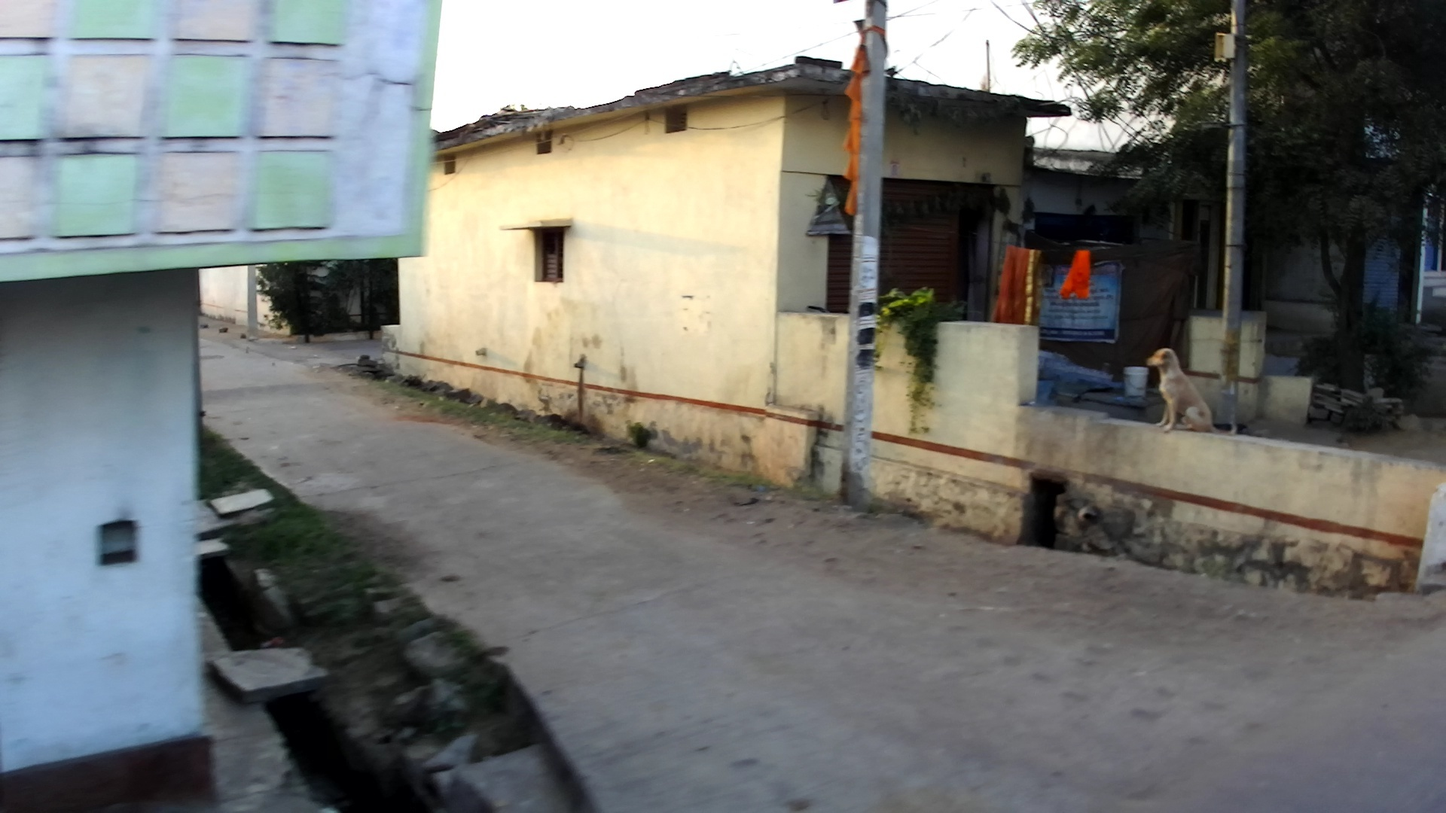animal: (1146, 347, 1240, 439)
